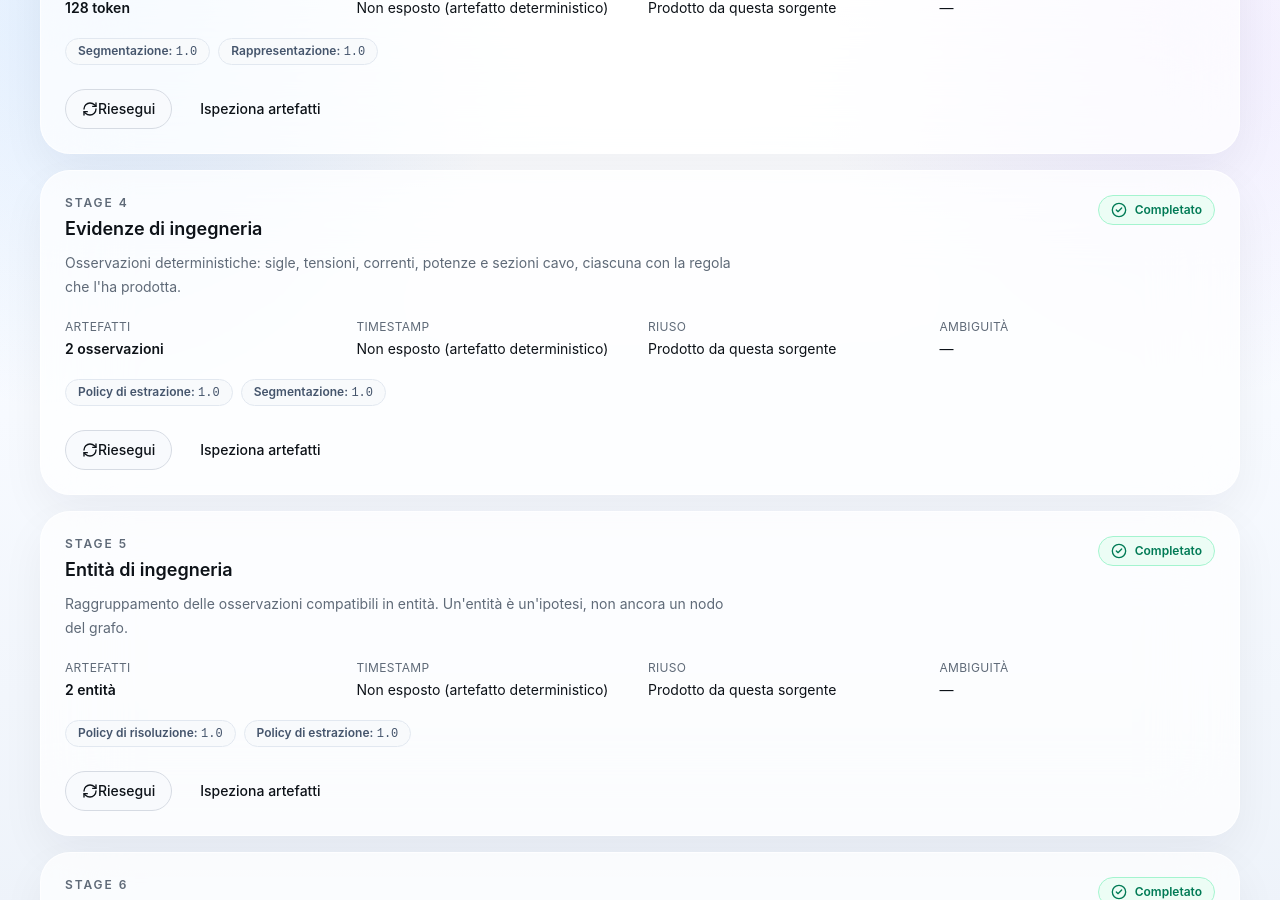
it: running a stage › reports a re-used artefact as re-used
(page scrolled)
Expected: the heading "Evidenze di ingegneria" is shown, [65,218,262,239]
Click the button "Riesegui" below "2 osservazioni". click: coordinates (119, 450)
box: [65,430,172,470]
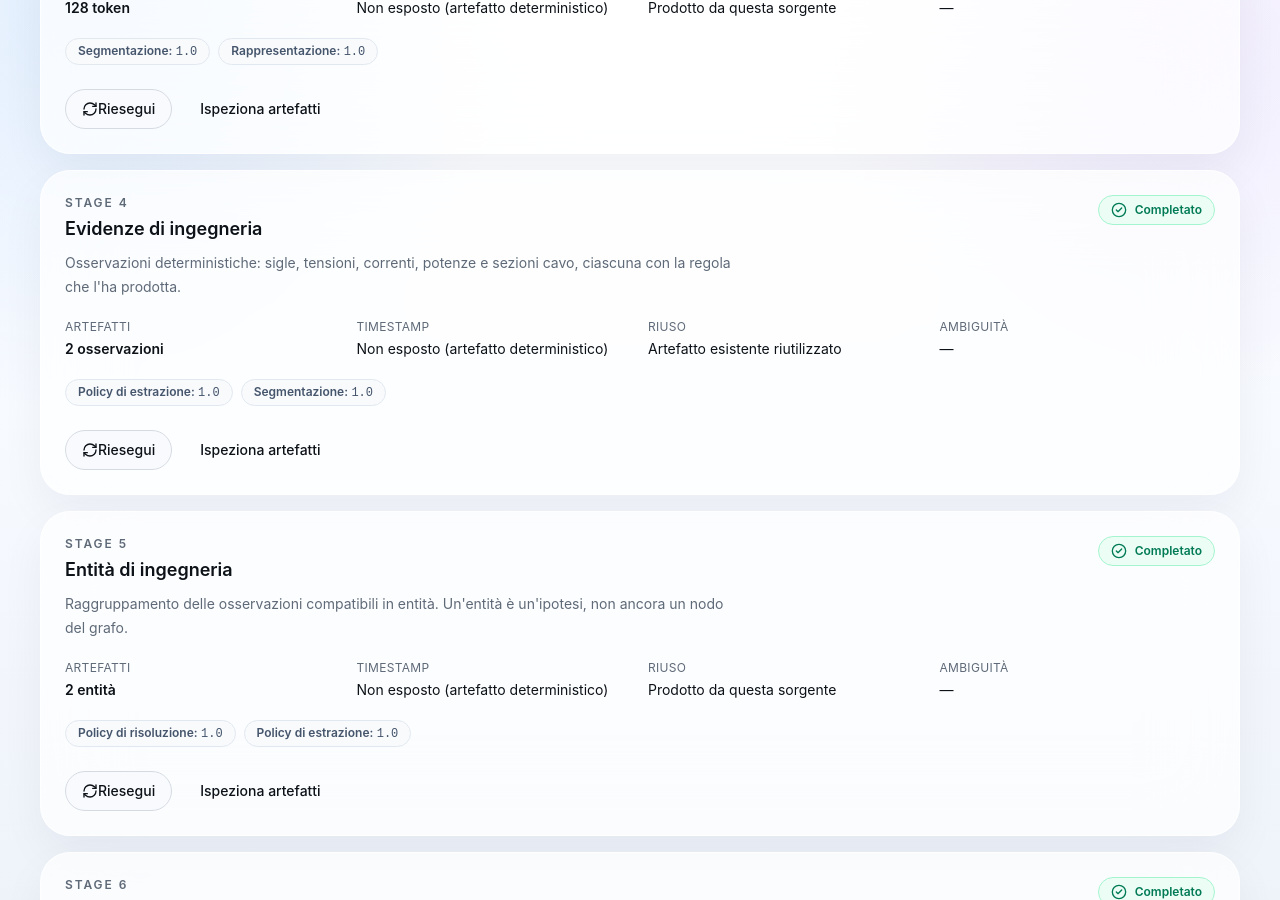
Expected: the text "Artefatto esistente riutilizzato" is shown, [648,340,842,357]
